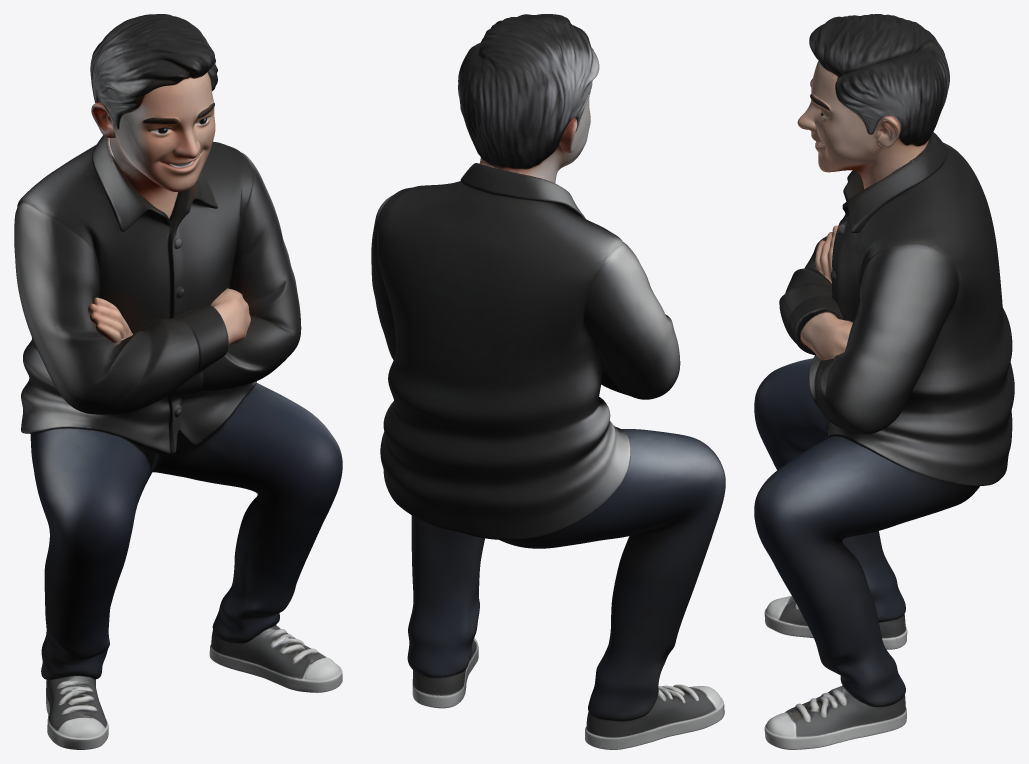
File: FirasUnity.fbx
3 renders of one model, left to right at view 1: azimuth 30°, elevation 25°; view 2: azimuth 150°, elevation 25°; view 3: azimuth 270°, elevation 25°, orthographic. The views are drawn at different scales.
Visible parts, largest first — view 1: tripo_node_22ffc6b1; view 2: tripo_node_22ffc6b1; view 3: tripo_node_22ffc6b1.
Part boxes in pixels (<box>): tripo_node_22ffc6b1: <box>14,14,342,749</box>; tripo_node_22ffc6b1: <box>371,14,725,749</box>; tripo_node_22ffc6b1: <box>754,14,1014,749</box>.
Bounding box in the file's own units: 0.4508 × 1 × 0.3566.
